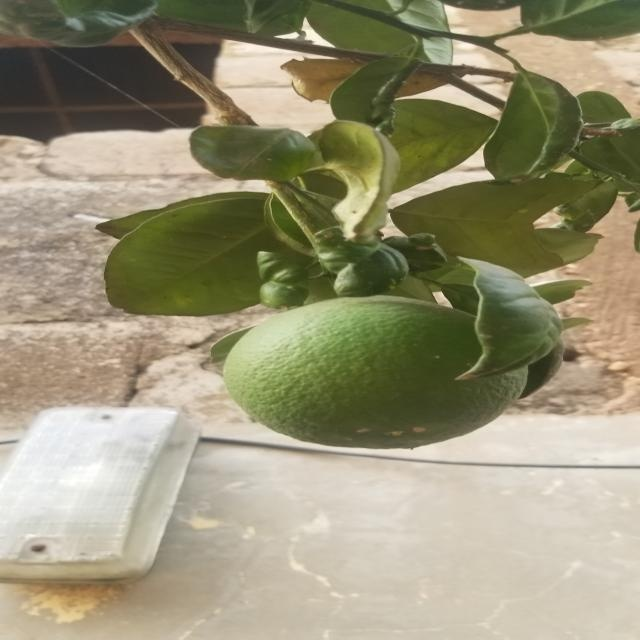agrume: (209, 297, 552, 457)
